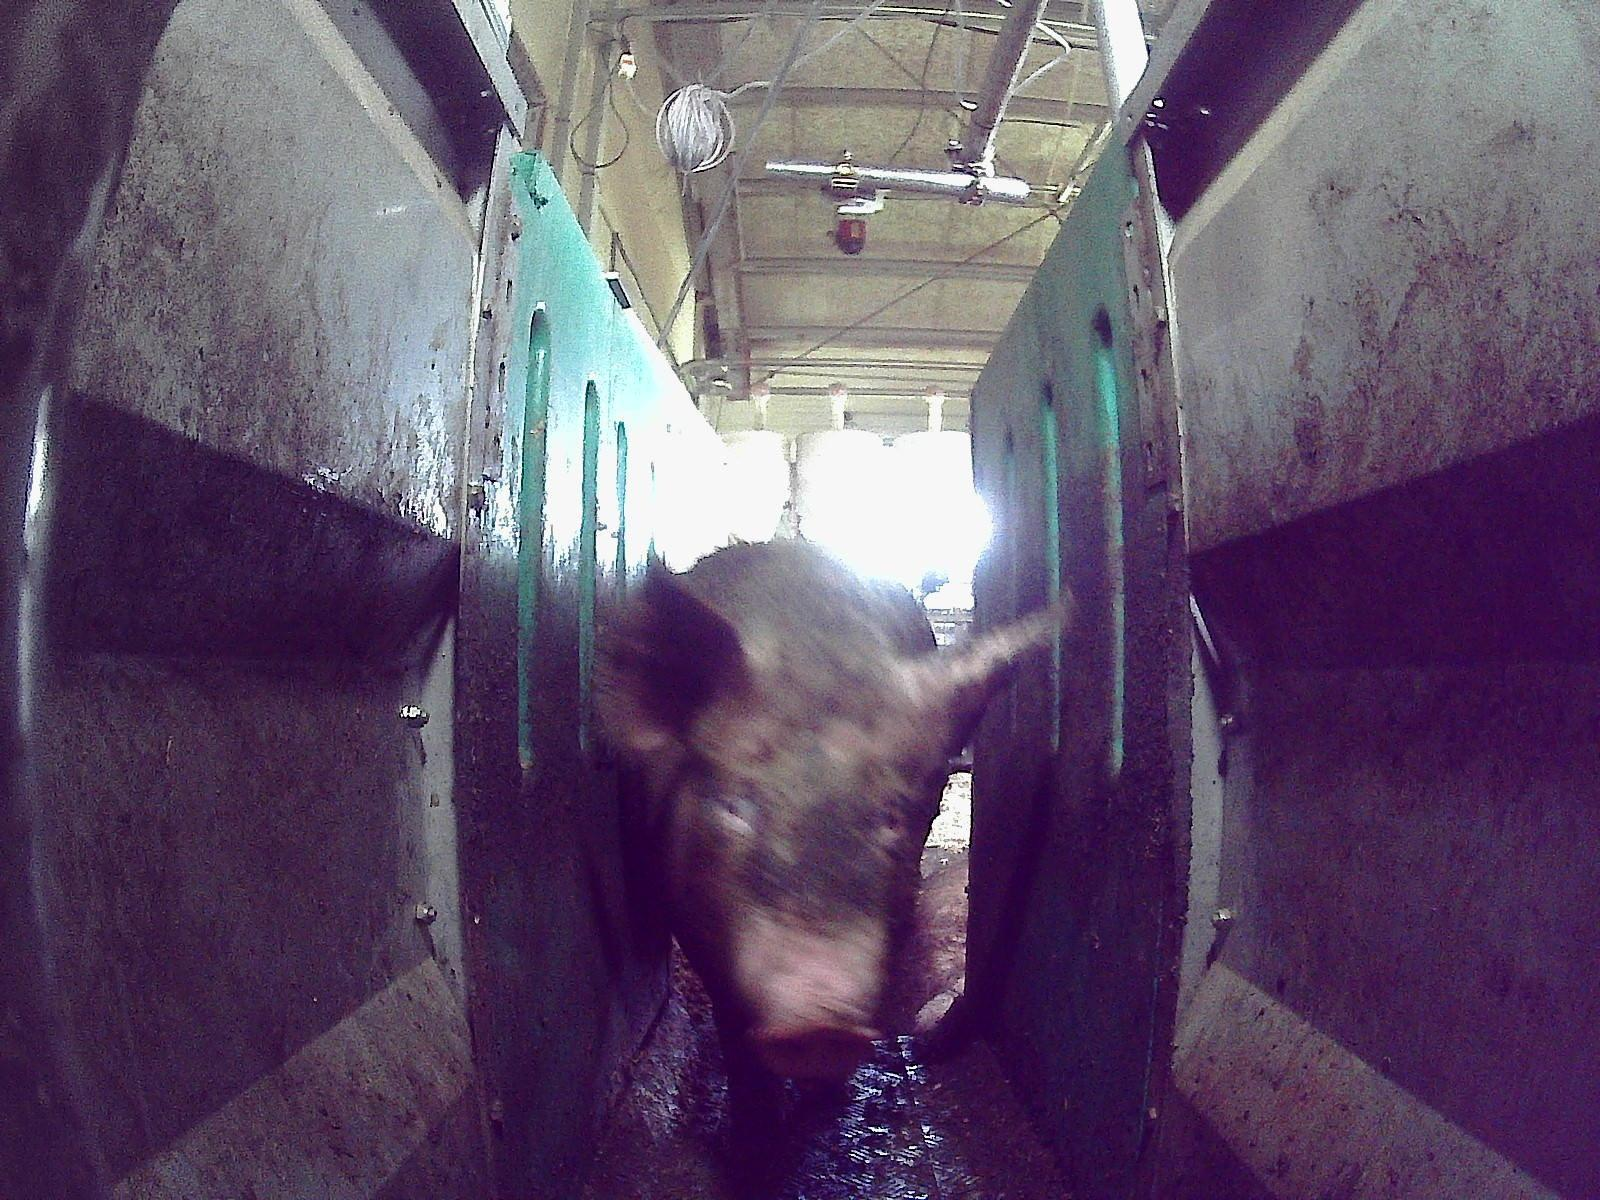Face: (669, 660, 918, 1077)
